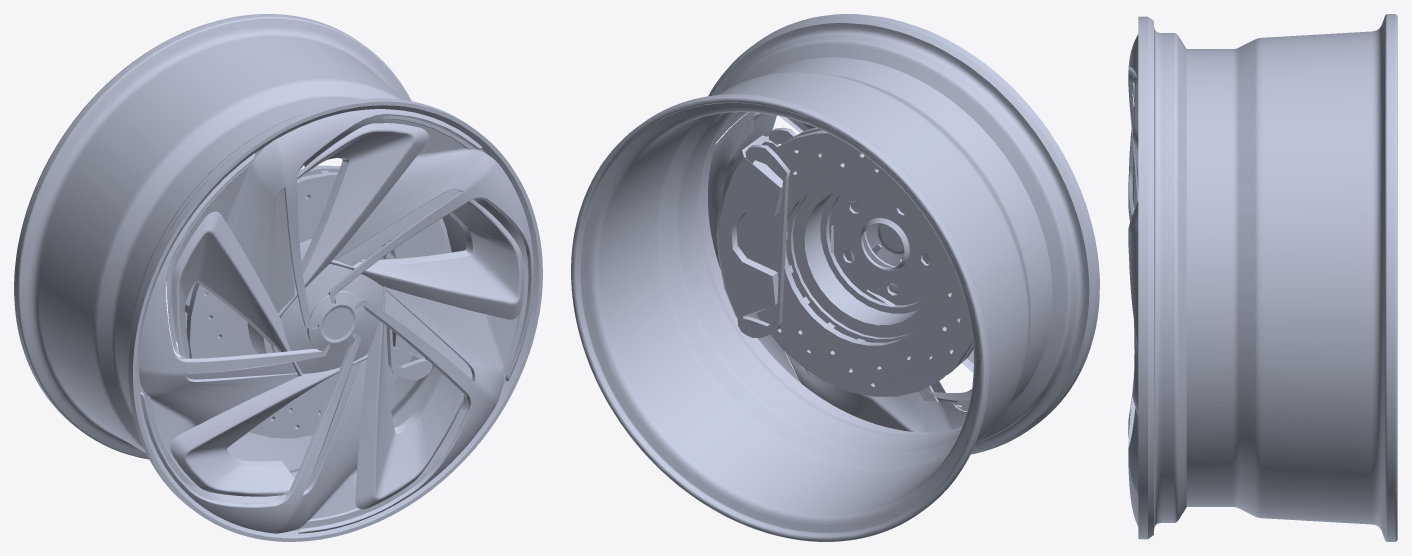
The model's file is wheel.glb.
3 views of the same model, side by side, from view 1: azimuth 30°, elevation 25°; view 2: azimuth 150°, elevation 25°; view 3: azimuth 270°, elevation 25° (orthographic). The views are drawn at different scales.
Visible parts, largest first — view 1: final alloy wheel design (1); view 2: final alloy wheel design (1); view 3: final alloy wheel design (1).
Boxes of the visible parts, x1,y1,x2,y2 form: final alloy wheel design (1): (14,14,542,541); final alloy wheel design (1): (571,14,1099,541); final alloy wheel design (1): (1128,14,1397,541).
Size of the model in its own units: 0.5852 by 0.5846 by 0.2986.
